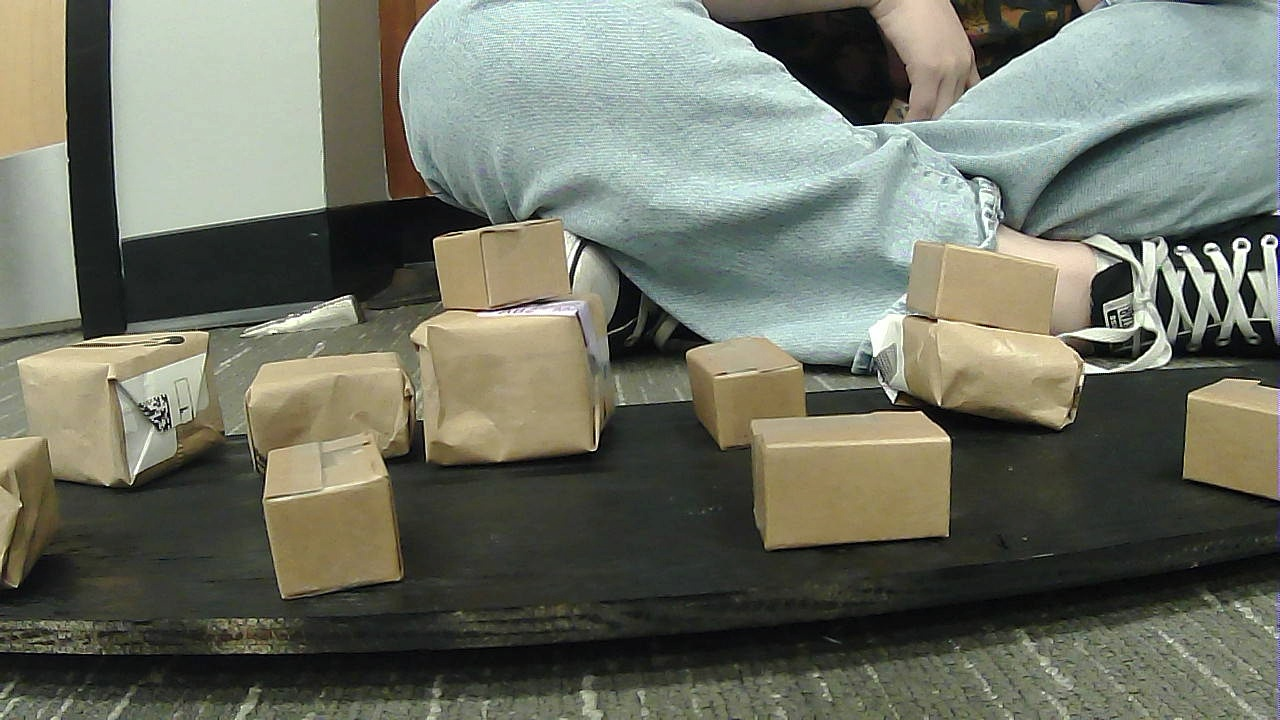package: (407, 304, 652, 450), (6, 325, 242, 475), (730, 396, 948, 531), (252, 449, 426, 594), (877, 309, 1089, 424), (229, 345, 416, 451), (674, 326, 821, 434), (900, 246, 1073, 337), (421, 206, 584, 301), (1166, 370, 1274, 497), (7, 439, 83, 585)
stacked: (410, 221, 628, 463), (879, 237, 1090, 424)
